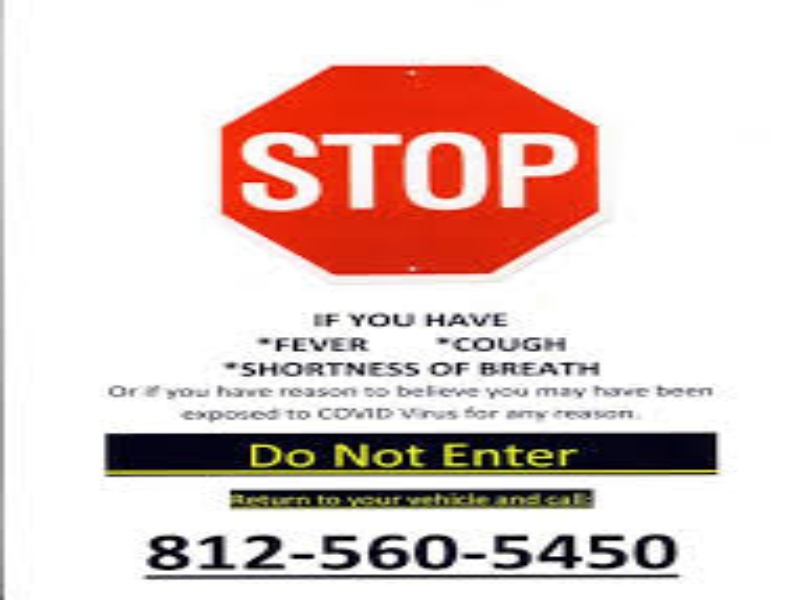Stop_Sign: (218, 63, 605, 280)
